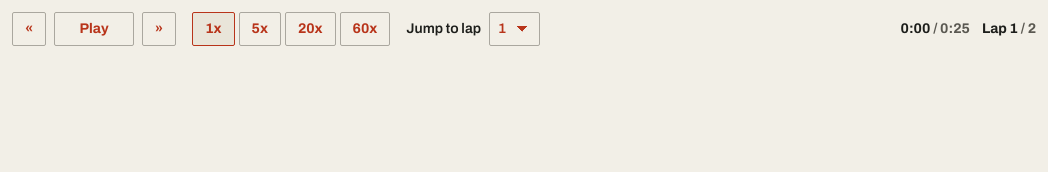
Test: Controls › has labelled buttons and toggles play and pause
Click the button "Play" at [94, 29], box [54,12,134,46]
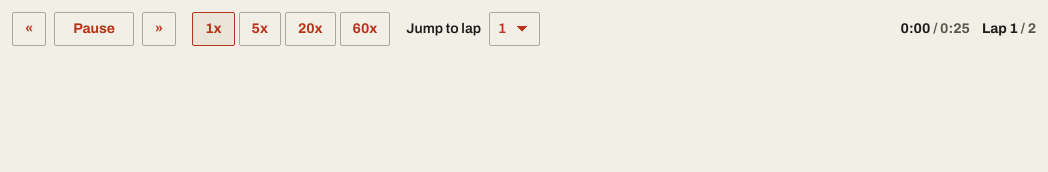
Expected: the button "Pause" is shown, [54,12,134,46]
